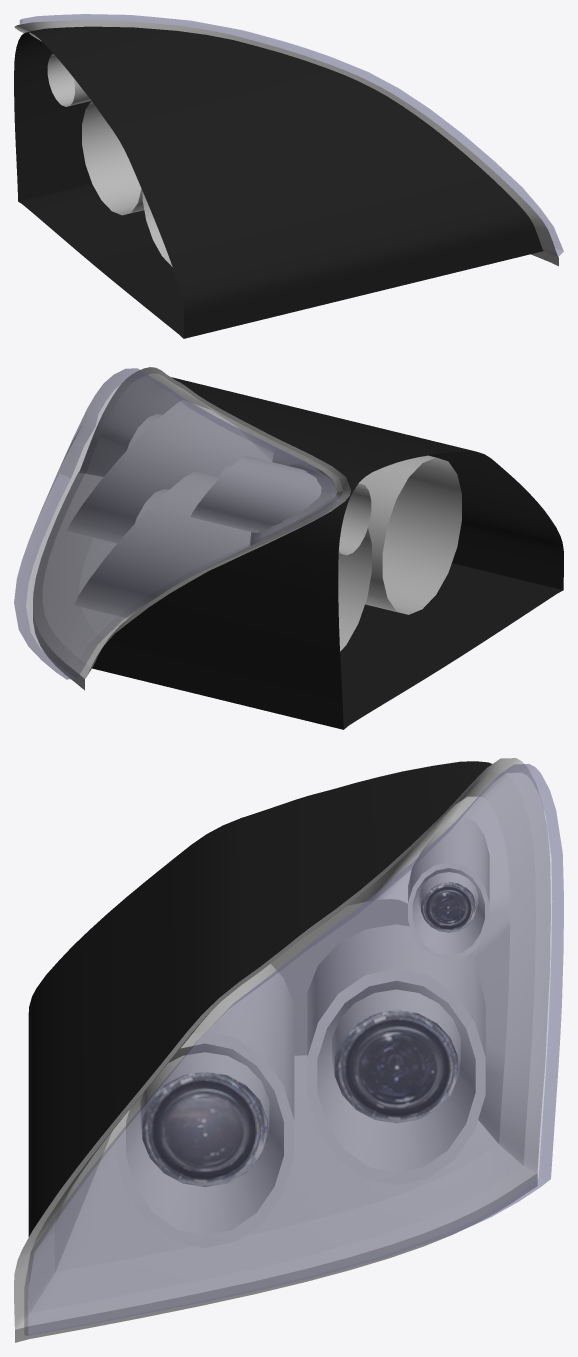
3 views of the same model, one above another, from view 1: azimuth 30°, elevation 25°; view 2: azimuth 150°, elevation 25°; view 3: azimuth 270°, elevation 25° (orthographic). The views are drawn at different scales.
Parts seen in each view (by area): view 1: LX61_061B_L_LX61_061B_L_5_D, LX61_061B_L_LX61_061B_L_4_DaS, LX61_061B_L_LX61_061B_L_6_DTaSI; view 2: LX61_061B_L_LX61_061B_L_5_D, LX61_061B_L_LX61_061B_L_4_DaS, LX61_061B_L_LX61_061B_L_6_DTaSI; view 3: LX61_061B_L_LX61_061B_L_6_DTaSI, LX61_061B_L_LX61_061B_L_4_DaS, LX61_061B_L_LX61_061B_L_5_D, LX61_061B_L_1_N_LX61_061B_L, LX61_061B_L_LX61_061B_L_2_N, LX61_061B_L_LX61_061B_L_3_N.
Part boxes in pixels (x1=…): LX61_061B_L_LX61_061B_L_5_D: x1=14, y1=26, x2=543, y2=338; LX61_061B_L_LX61_061B_L_4_DaS: x1=14, y1=20, x2=558, y2=266; LX61_061B_L_LX61_061B_L_6_DTaSI: x1=19, y1=14, x2=563, y2=256; LX61_061B_L_LX61_061B_L_5_D: x1=92, y1=377, x2=563, y2=729; LX61_061B_L_LX61_061B_L_4_DaS: x1=33, y1=367, x2=461, y2=690; LX61_061B_L_LX61_061B_L_6_DTaSI: x1=14, y1=368, x2=338, y2=679; LX61_061B_L_LX61_061B_L_6_DTaSI: x1=24, y1=764, x2=563, y2=1335; LX61_061B_L_LX61_061B_L_4_DaS: x1=14, y1=758, x2=550, y2=1342; LX61_061B_L_LX61_061B_L_5_D: x1=28, y1=761, x2=491, y2=1236; LX61_061B_L_1_N_LX61_061B_L: x1=142, y1=1071, x2=267, y2=1186; LX61_061B_L_LX61_061B_L_2_N: x1=334, y1=1010, x2=458, y2=1123; LX61_061B_L_LX61_061B_L_3_N: x1=421, y1=882, x2=476, y2=932.
Bounding box in the file's own units: 49.99 × 26.8 × 41.57.
